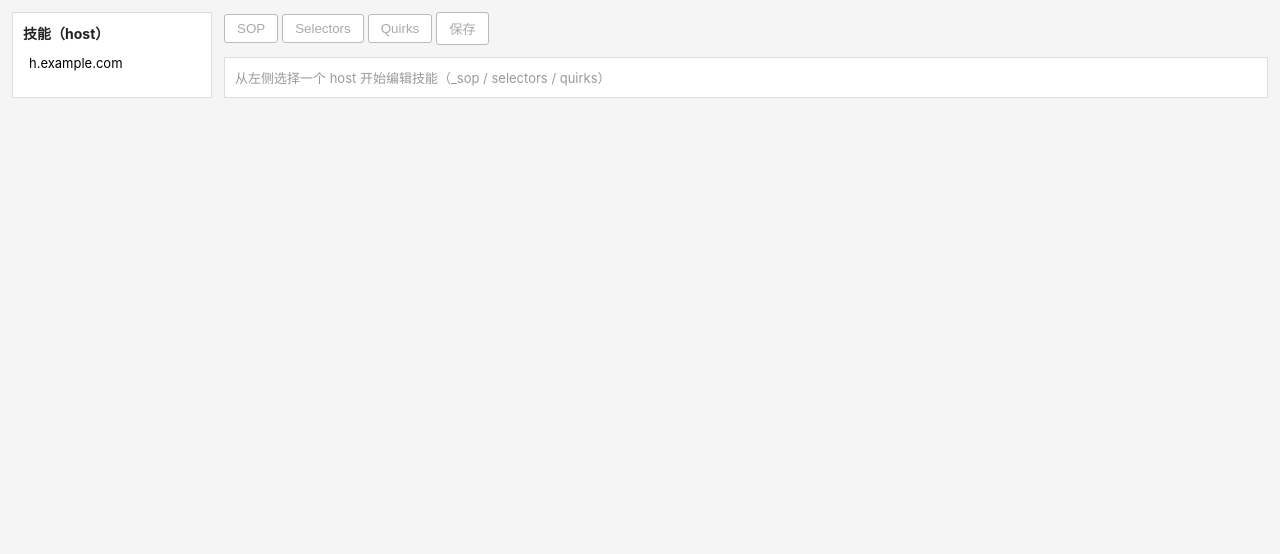
Test: SkillsShell (P6 后续 B) › 切换 Selectors tab → textarea 切到 selectors 内容
The width and height of the screenshot is (1280, 554).
Click the button "h.example.com".
click(112, 63)  # box 23,51 -> 201,75
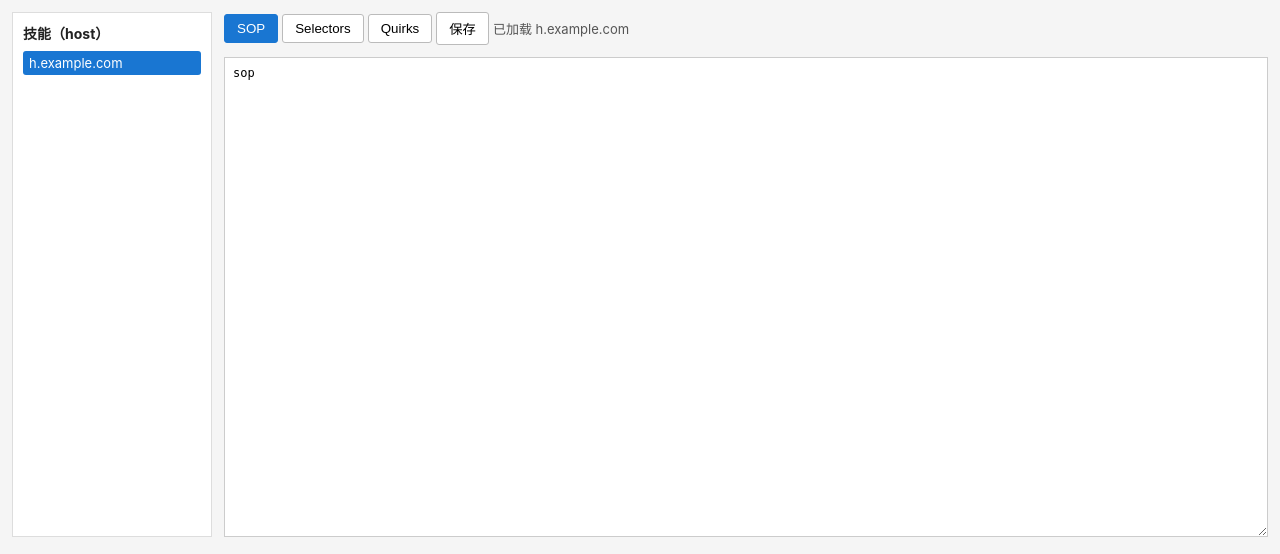
Expected: the text box holds "sop"
Click the button "Selectors".
click(323, 28)  # box 282,14 -> 364,43
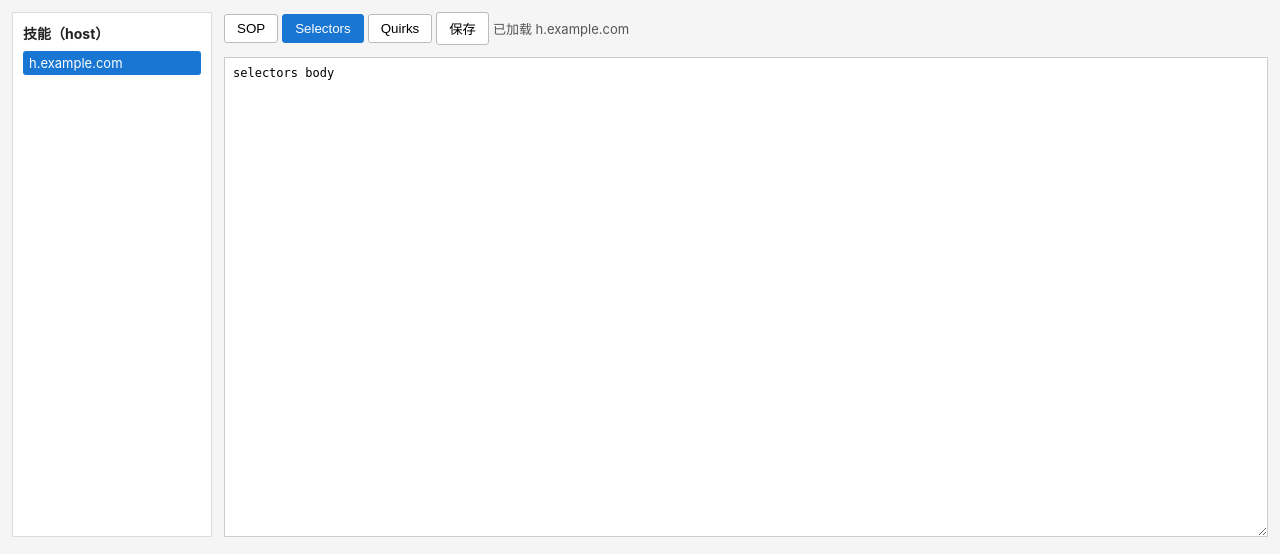
Expected: the text box holds "selectors body"
